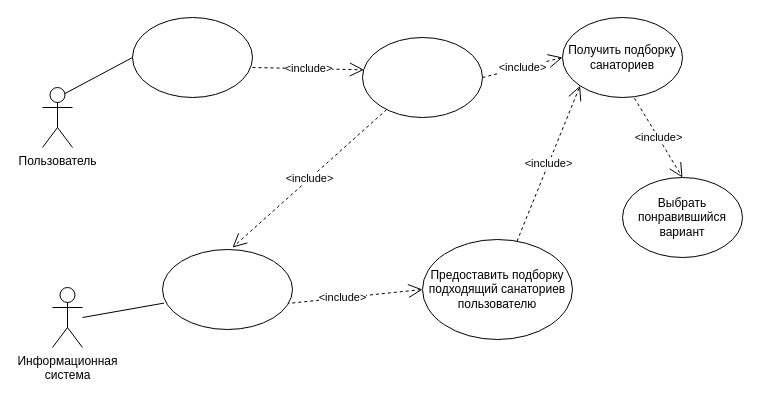
This 760x401 diagram has some shape labels left out. The centre of each missing label's shape, as x and y in pixels:
Анализ критериев поиска пользователя: point (227, 289)
Ввести критерии поиска санатория в фильтр: point (422, 77)
Найти подходящий санаторий: point (192, 57)
